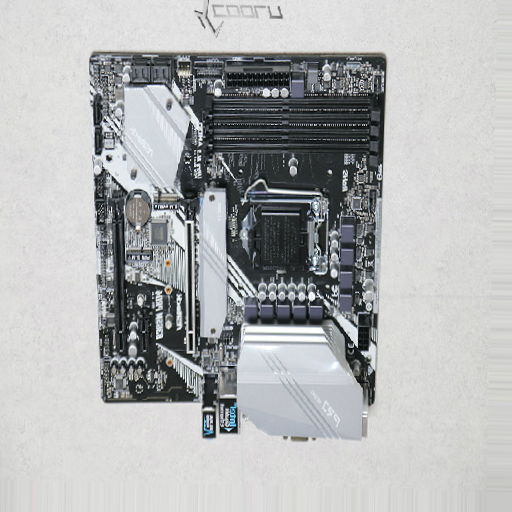CPU: (242, 181, 337, 307)
GPU: (109, 189, 131, 355), (182, 197, 201, 355)
MOTHERBOARD: (89, 50, 375, 442)
RAM: (201, 94, 381, 156)
SSD: (153, 191, 180, 210), (125, 248, 154, 261)
